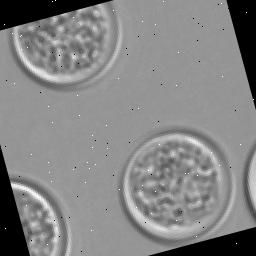picoshell: (121, 130, 236, 244), (12, 2, 123, 88), (11, 176, 72, 256), (245, 147, 256, 218)
